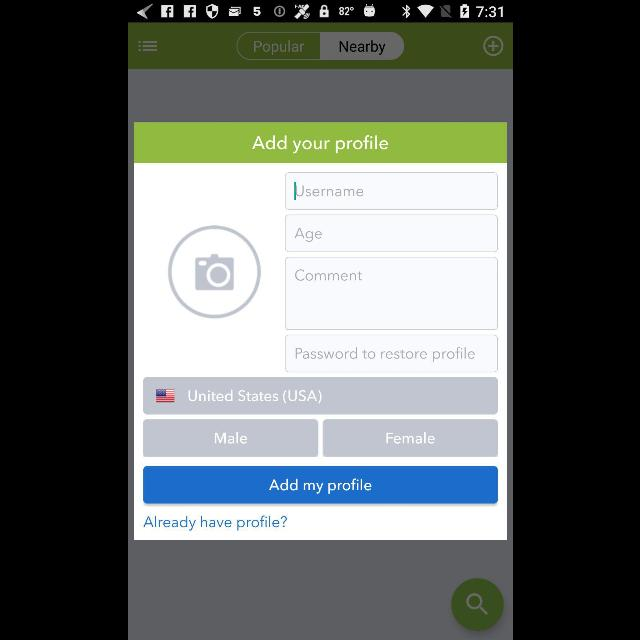icon: (450, 578, 502, 632), (482, 36, 502, 56), (138, 40, 156, 51)
image: (167, 225, 259, 318)
input: (284, 258, 498, 330), (284, 214, 498, 252), (284, 172, 496, 210), (284, 336, 498, 372)
panel: (132, 122, 506, 540)
text: (252, 135, 388, 153), (142, 516, 286, 530), (295, 186, 363, 197), (294, 270, 362, 280), (294, 228, 322, 242)
textbutton: (143, 466, 497, 504), (143, 378, 497, 414), (322, 419, 496, 456), (144, 419, 318, 456), (320, 32, 404, 60), (235, 32, 318, 60)
uppertaskbar: (128, 1, 512, 23)
